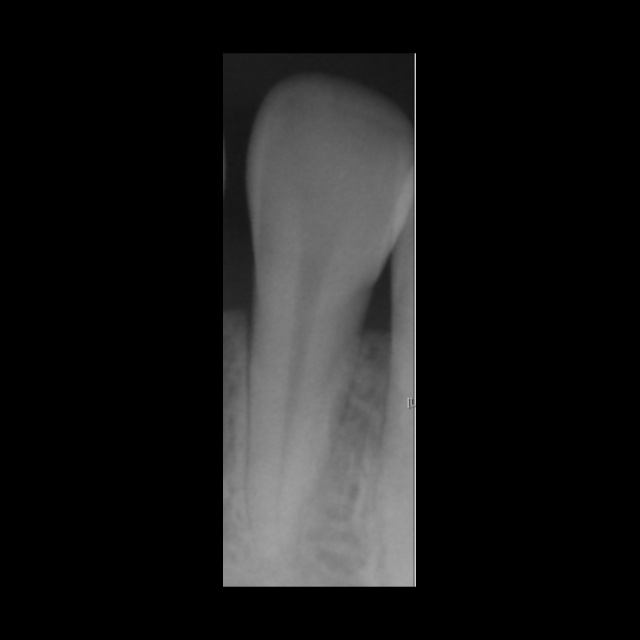tooth: (247, 81, 410, 553)
